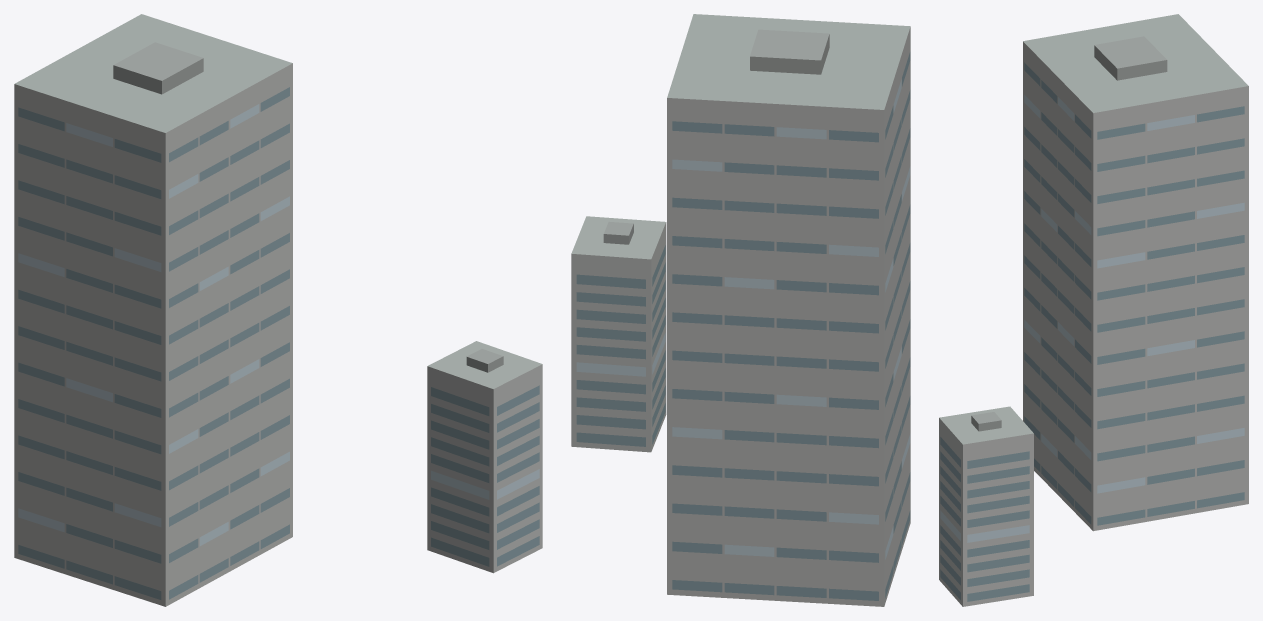
File: apt-a13528005.glb
3 renders of one model, left to right at view 1: azimuth 30°, elevation 25°; view 2: azimuth 150°, elevation 25°; view 3: azimuth 270°, elevation 25°, orthographic. The views are drawn at different scales.
Visible parts, largest first — view 1: apt-a13528005; view 2: apt-a13528005; view 3: apt-a13528005.
Part boxes in pixels (x1,y1,x2,y2): apt-a13528005: (14, 14, 542, 606); apt-a13528005: (571, 14, 910, 606); apt-a13528005: (939, 14, 1248, 606).
Bounding box in the file's own units: 75.02 × 86 × 56.14.
